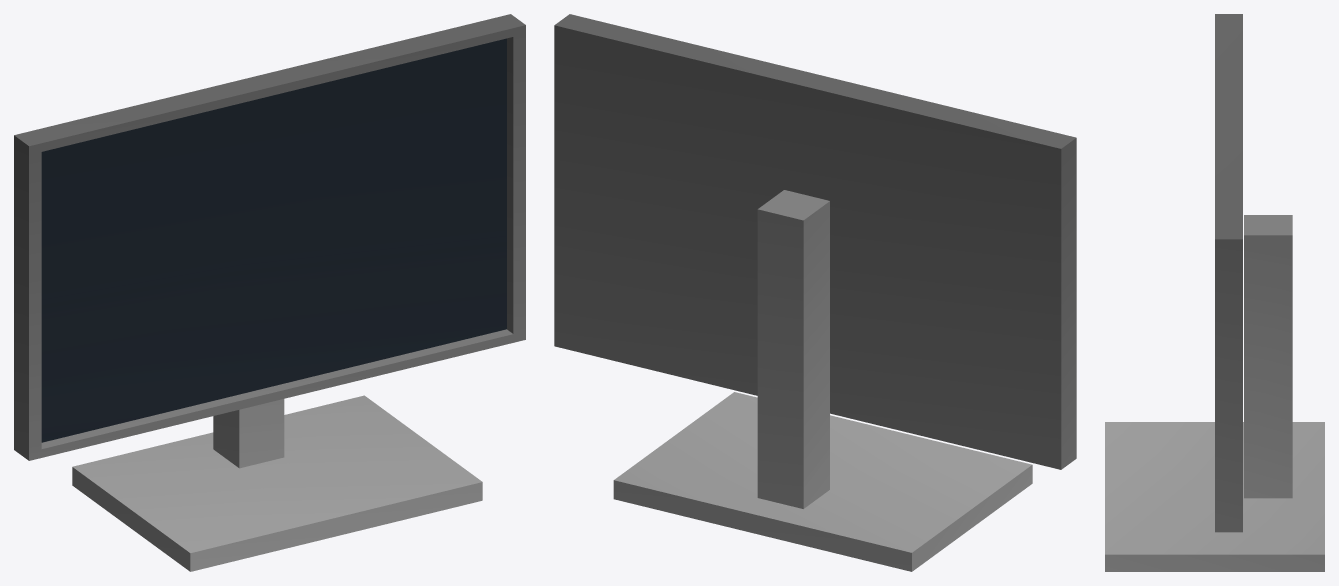
File: Monitor.fbx
3 views of the same model, side by side, from view 1: azimuth 30°, elevation 25°; view 2: azimuth 150°, elevation 25°; view 3: azimuth 270°, elevation 25° (orthographic). The views are drawn at different scales.
Visible parts, largest first — view 1: Monitor; view 2: Monitor; view 3: Monitor.
Boxes of the visible parts, bbox=[...] form: Monitor: bbox=[14, 14, 525, 571]; Monitor: bbox=[554, 14, 1076, 571]; Monitor: bbox=[1105, 14, 1324, 571].
Size of the model in its own units: 39.52 by 30.97 by 16.29.
